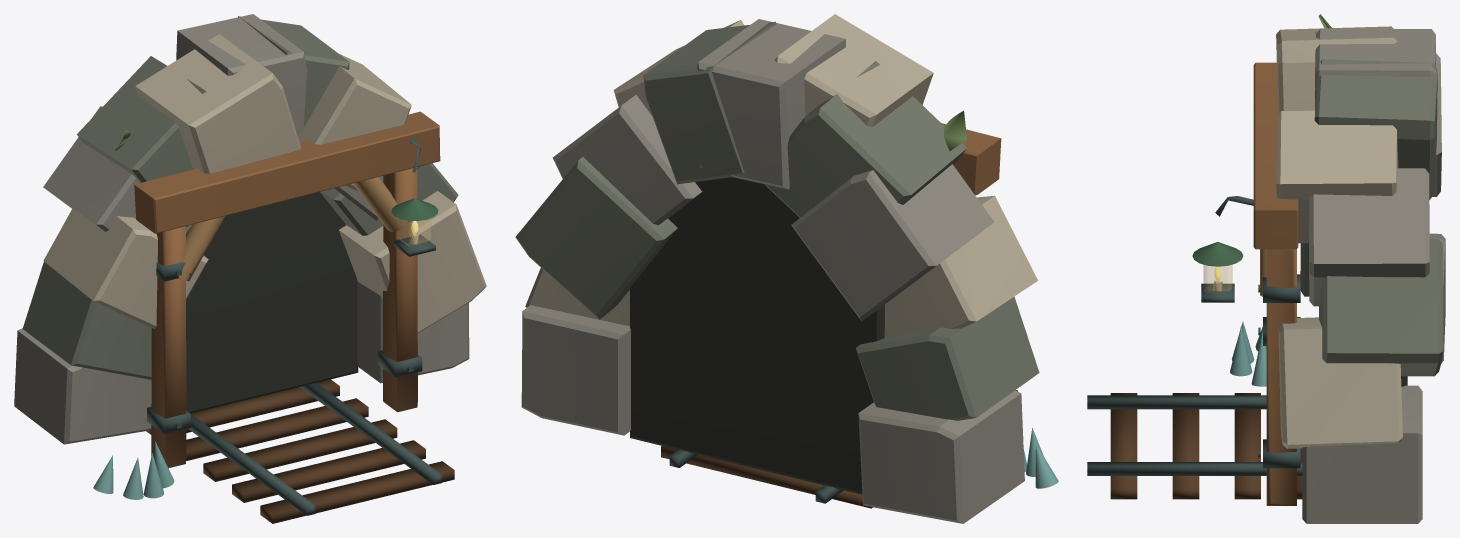
File: entrada_mina_lod.glb
The picture shows the model from 3 angles, left to right: view 1: azimuth 30°, elevation 25°; view 2: azimuth 150°, elevation 25°; view 3: azimuth 270°, elevation 25°; orthographic projection. The views are drawn at different scales.
Visible parts, largest first — view 1: entrada_mina, mi_lampara_cristal; view 2: entrada_mina; view 3: entrada_mina, mi_lampara_cristal.
Boxes of the visible parts, left/top/right/bottom form: entrada_mina: left=14, top=14, right=486, bottom=523; mi_lampara_cristal: left=399, top=218, right=430, bottom=246; entrada_mina: left=515, top=14, right=1058, bottom=523; entrada_mina: left=1087, top=14, right=1445, bottom=523; mi_lampara_cristal: left=1203, top=265, right=1232, bottom=292.
Bounding box in the file's own units: 2.7 × 2.41 × 1.91.
